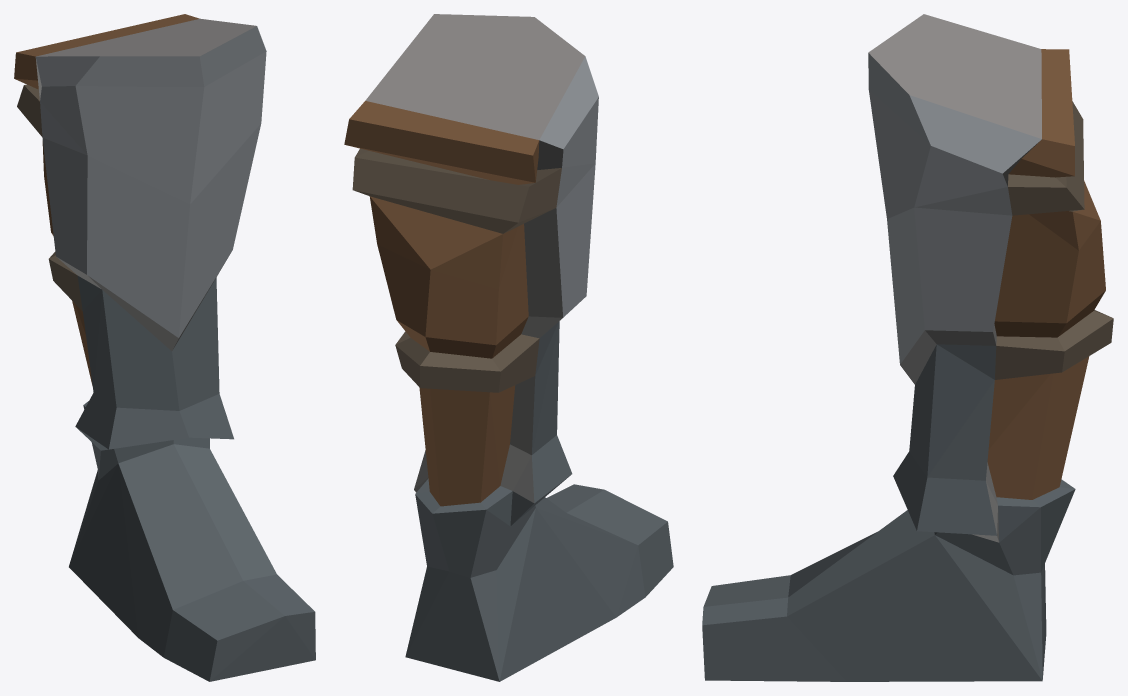
The model's file is Chr_LegRight_Female_01_Static.fbx.
3 views of the same model, side by side, from view 1: azimuth 30°, elevation 25°; view 2: azimuth 150°, elevation 25°; view 3: azimuth 270°, elevation 25° (orthographic). The views are drawn at different scales.
Visible parts, largest first — view 1: Chr_LegRight_Female_01_Static; view 2: Chr_LegRight_Female_01_Static; view 3: Chr_LegRight_Female_01_Static.
Boxes of the visible parts, x1,y1,x2,y2 form: Chr_LegRight_Female_01_Static: (14,14,315,681); Chr_LegRight_Female_01_Static: (344,14,673,681); Chr_LegRight_Female_01_Static: (702,14,1113,681).
Bounding box in the file's own units: 0.1432 × 0.4043 × 0.2488.
